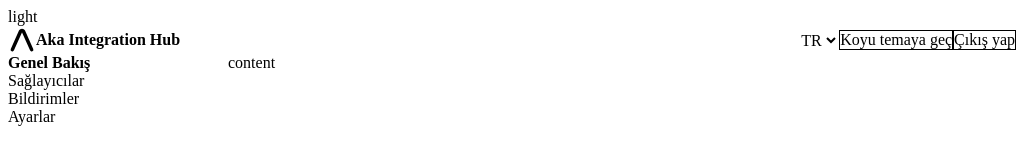
AppShell › toggles theme through the host adapter
Click the button "Koyu temaya geç".
click(896, 40)  # box [839,30,953,50]
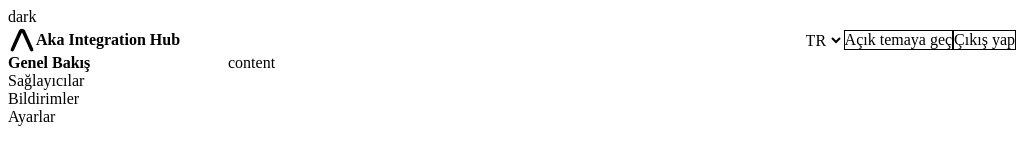
Expected: the text with test id "mode" reads "dark", [8,8,36,25]
Expected: the button "Açık temaya geç" is shown, [844,30,953,50]
